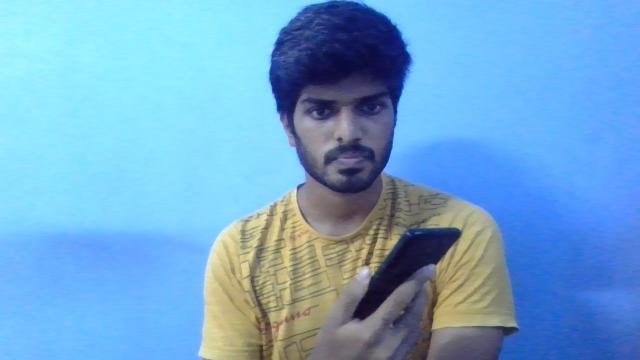PhoneUse: (354, 226, 464, 310)
SafeDriving: (351, 90, 394, 120), (298, 95, 342, 123)
